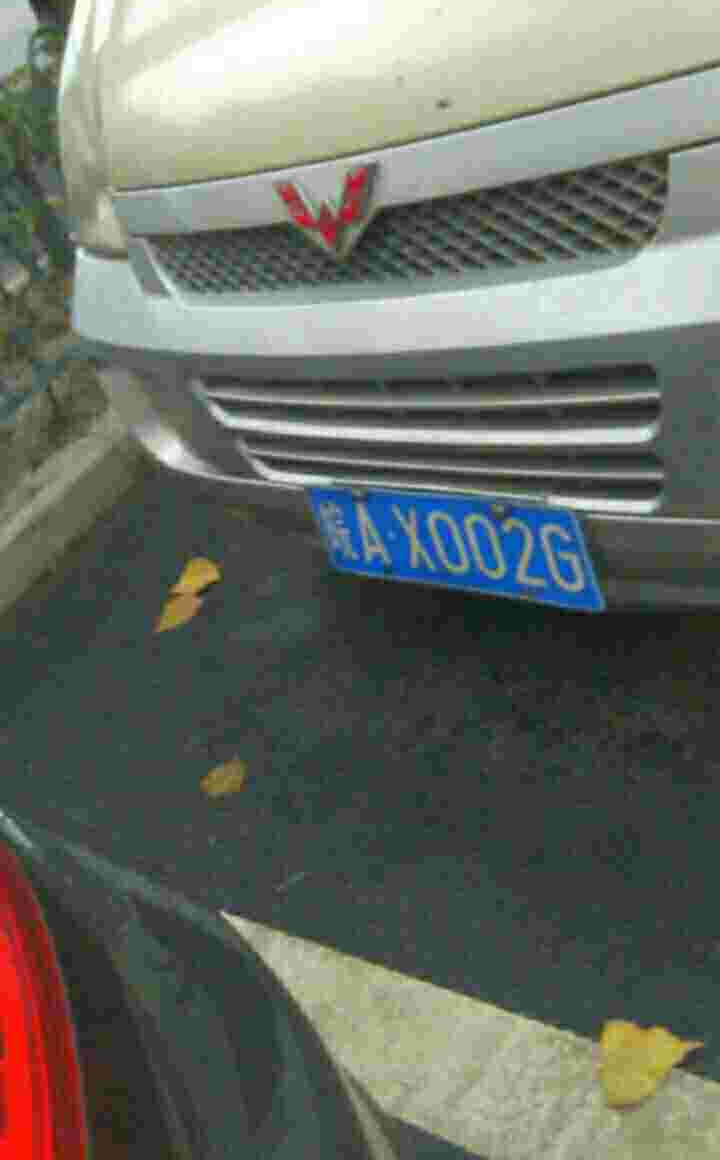license_plate: (312, 484, 606, 605)
